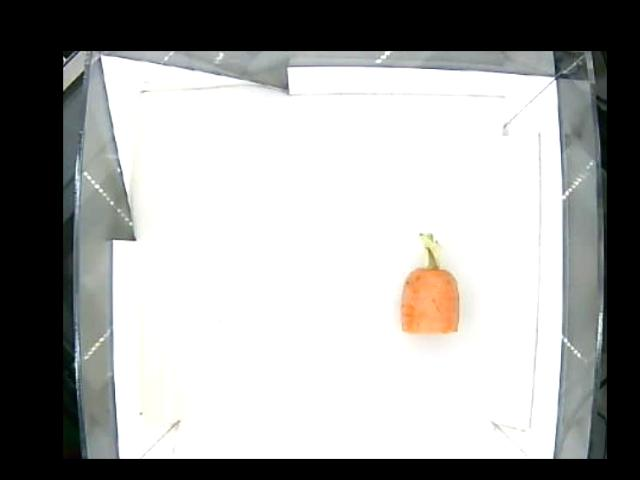Carrot: (400, 231, 461, 333)
